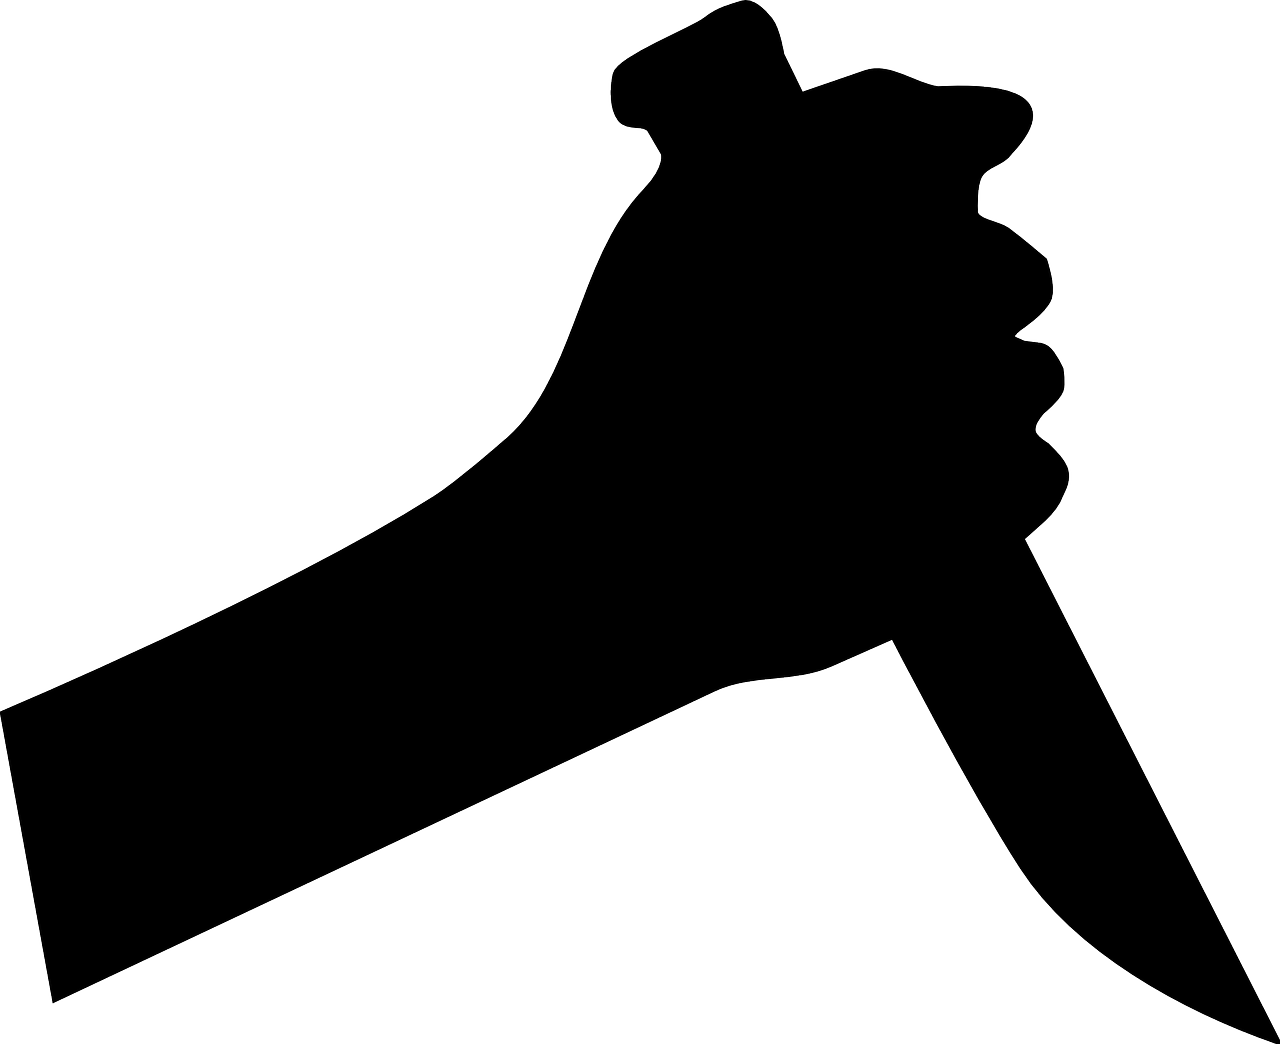knife: (603, 2, 1280, 1044)
